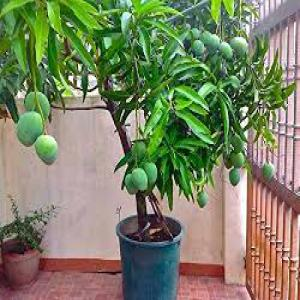Tree: (8, 3, 266, 297)
